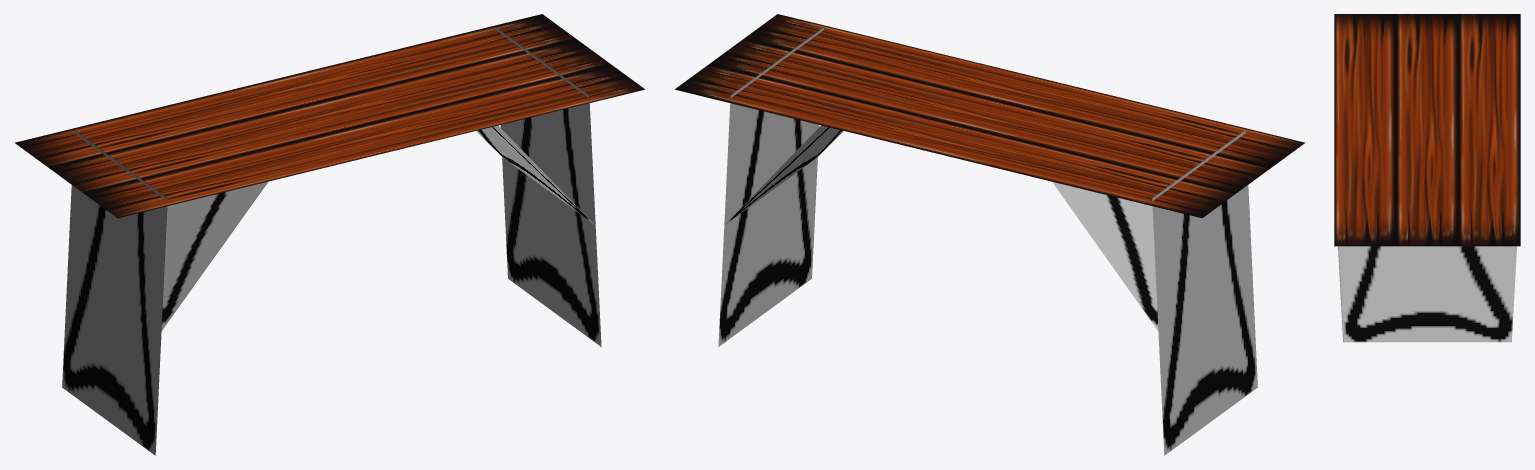
Rendered from Klapptisch_1808.glb.
The picture shows the model from 3 angles, left to right: view 1: azimuth 30°, elevation 25°; view 2: azimuth 150°, elevation 25°; view 3: azimuth 270°, elevation 25°; orthographic projection. The views are drawn at different scales.
Visible parts, largest first — view 1: pPlaneShape22, pPlaneShape23, pPlaneShape26, pPlaneShape25, pPlaneShape27; view 2: pPlaneShape22, pPlaneShape23, pPlaneShape26, pPlaneShape25, pPlaneShape27; view 3: pPlaneShape22, pPlaneShape27.
Boxes of the visible parts, x1,y1,x2,y2 form: pPlaneShape22: (14, 14, 645, 218); pPlaneShape23: (62, 130, 167, 455); pPlaneShape26: (496, 27, 601, 346); pPlaneShape25: (161, 181, 267, 330); pPlaneShape27: (476, 125, 594, 224); pPlaneShape22: (674, 14, 1305, 218); pPlaneShape23: (1152, 130, 1257, 455); pPlaneShape26: (718, 27, 823, 346); pPlaneShape25: (1052, 181, 1158, 330); pPlaneShape27: (725, 125, 843, 224); pPlaneShape22: (1334, 14, 1520, 246); pPlaneShape27: (1338, 246, 1516, 342).
Size of the model in its own units: 0.242 by 0.1116 by 0.0819.
Materials: 5 (5 with a texture image).
